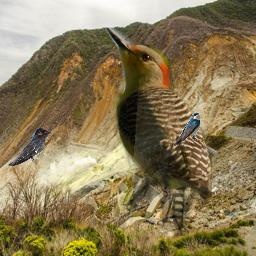Swallow: (8, 128, 51, 166), (172, 111, 202, 147)
Woodpecker: (105, 27, 212, 236)
